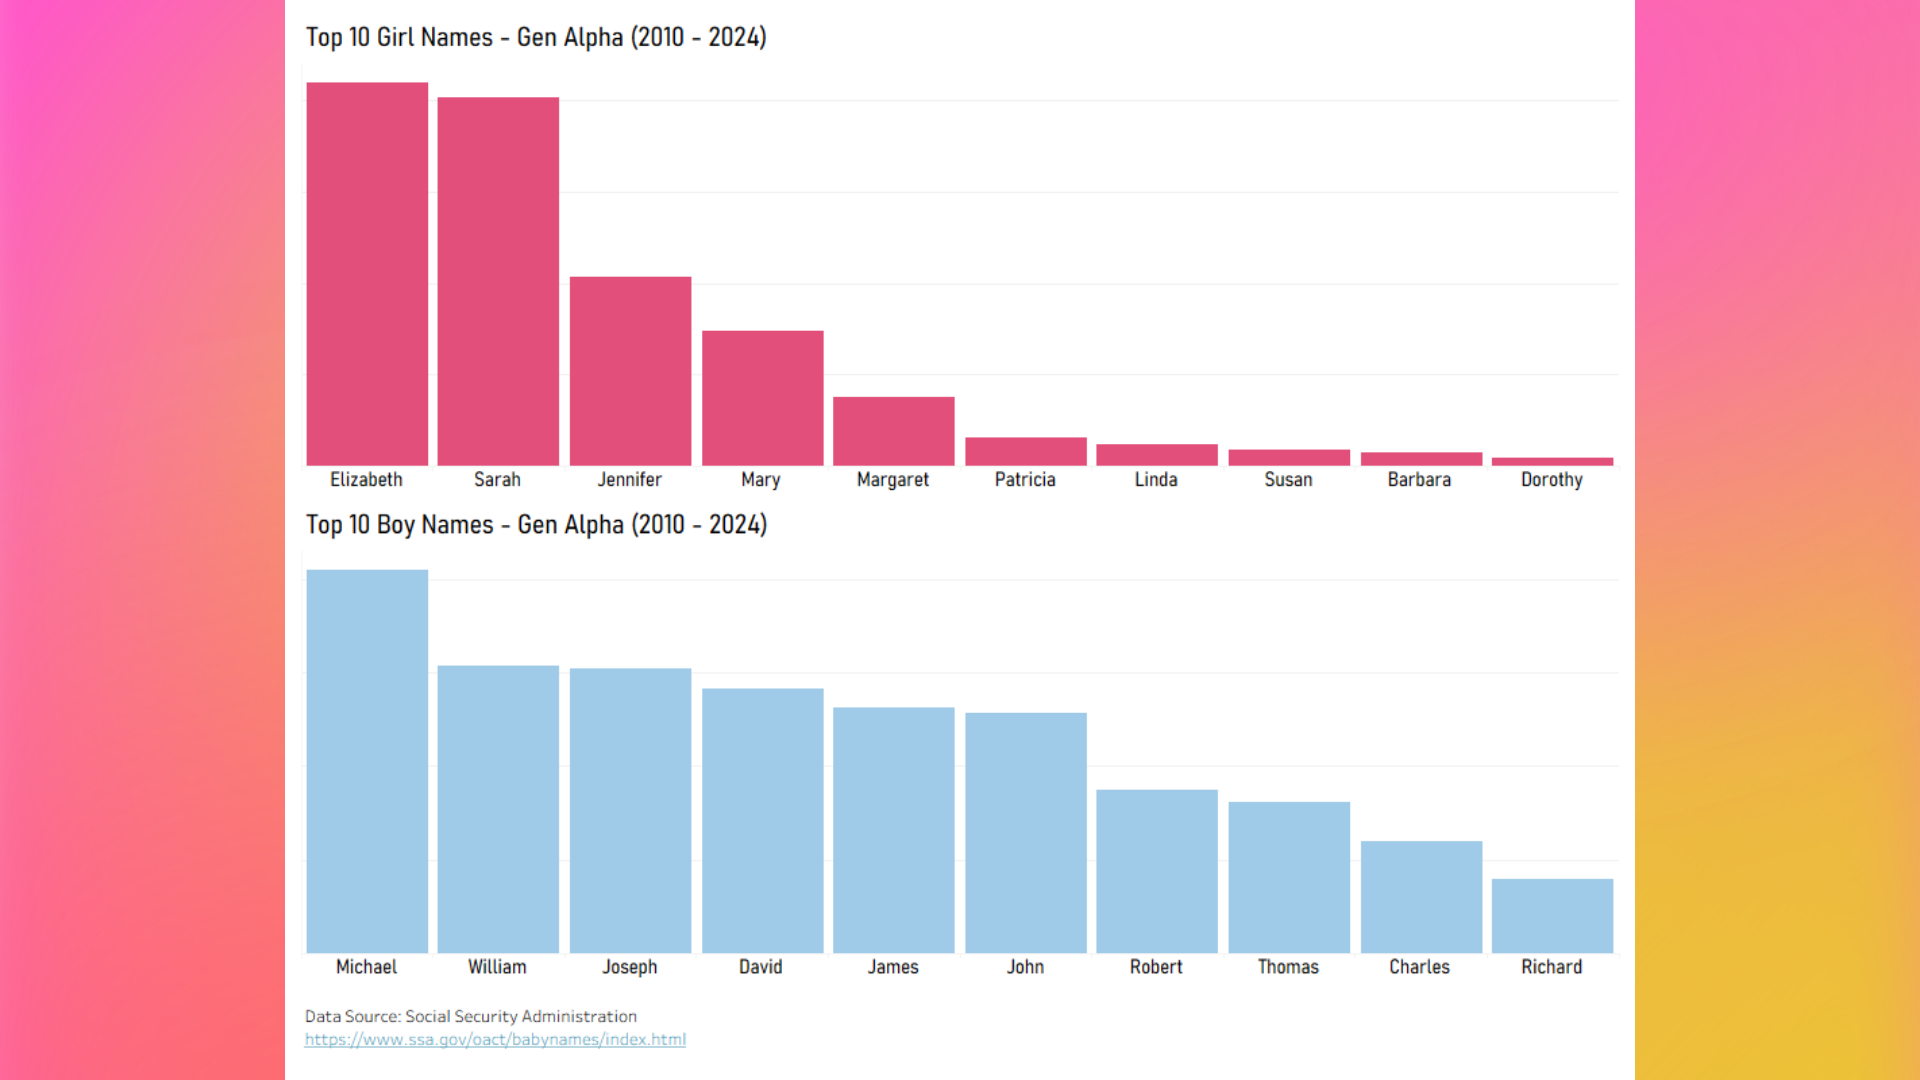

Layout of this report page (visuals, bound fields, positions):
{"tool":"tableau","page":{"name":"Top 10 Baby Names Gen Alpha","canvas":[1000,800],"ordinal":1},"visuals":[{"type":"worksheet","title":"Top 10 Girl Names - Gen Alpha (2010 - 2024)","mark":"Bar","rows":["count"],"cols":["name"],"box":[8,8,984,361]},{"type":"worksheet","title":"Top 10 Boy Names - Gen Alpha (2010 - 2024)","mark":"Bar","rows":["count"],"cols":["name"],"box":[8,369,984,361]},{"type":"text","box":[8,730,984,62]}]}

Visuals, with their boxes on the page's 1000x800 design canvas (x1, y1, x2, y2). These are canvas units, not pixel positions in the 1920x1080 screenshot, which may show the page scaled, cropped or inside an application window:
"Top 10 Girl Names - Gen Alpha (2010 - 2024)" worksheet (Bar marks): [left=8, top=8, right=992, bottom=369]
"Top 10 Boy Names - Gen Alpha (2010 - 2024)" worksheet (Bar marks): [left=8, top=369, right=992, bottom=730]
text: [left=8, top=730, right=992, bottom=792]
